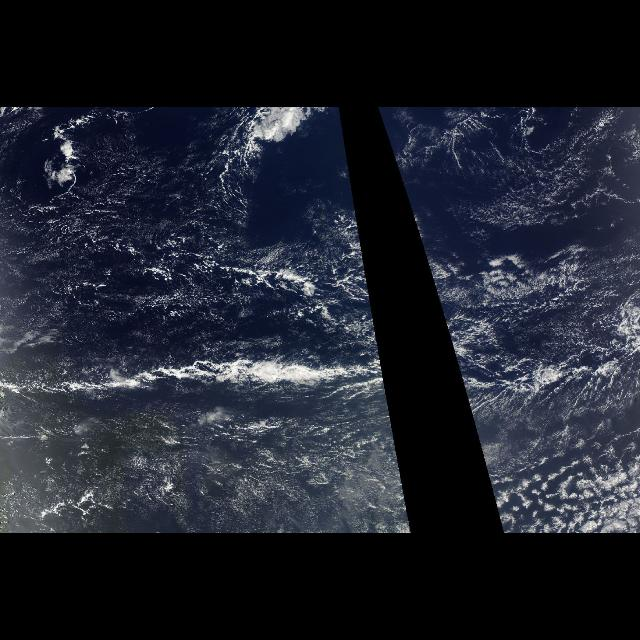Fish: (428, 267, 634, 415), (237, 267, 391, 415)
Sugar: (0, 107, 364, 351), (6, 403, 412, 529)
